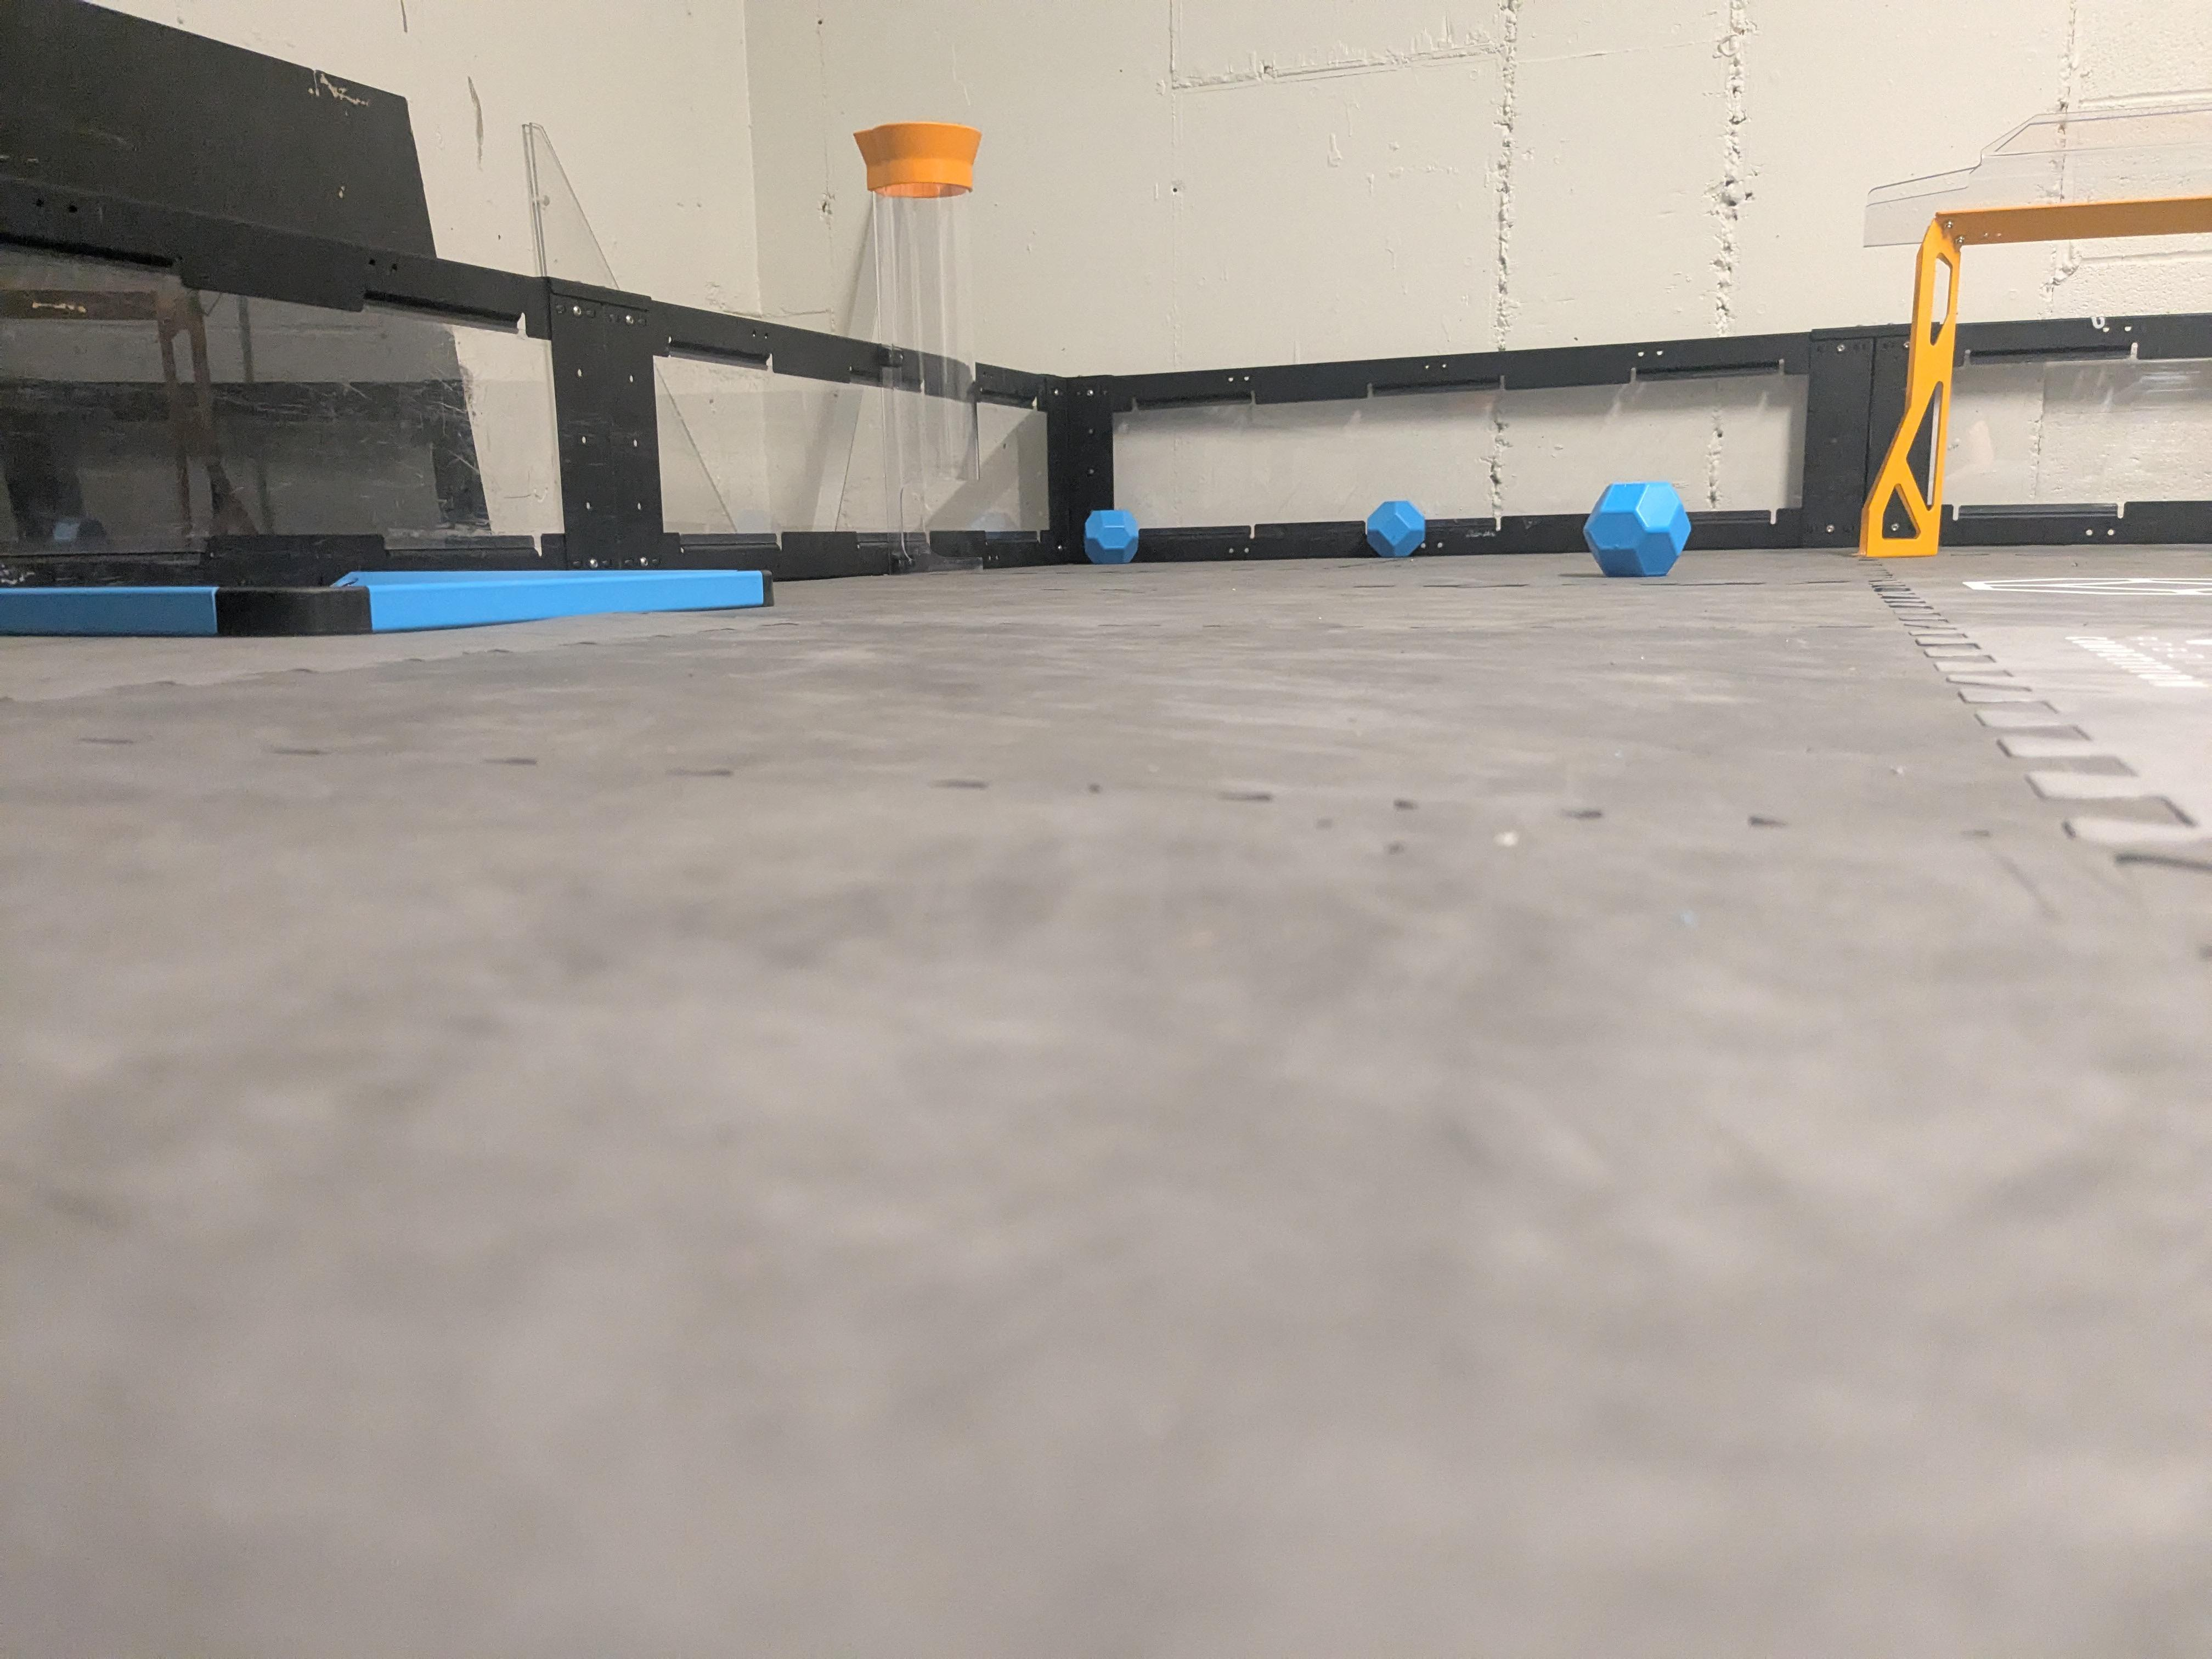Vex-Pieces-BLUE: (1585, 481, 1689, 577), (1367, 500, 1425, 558), (1083, 509, 1139, 565)
